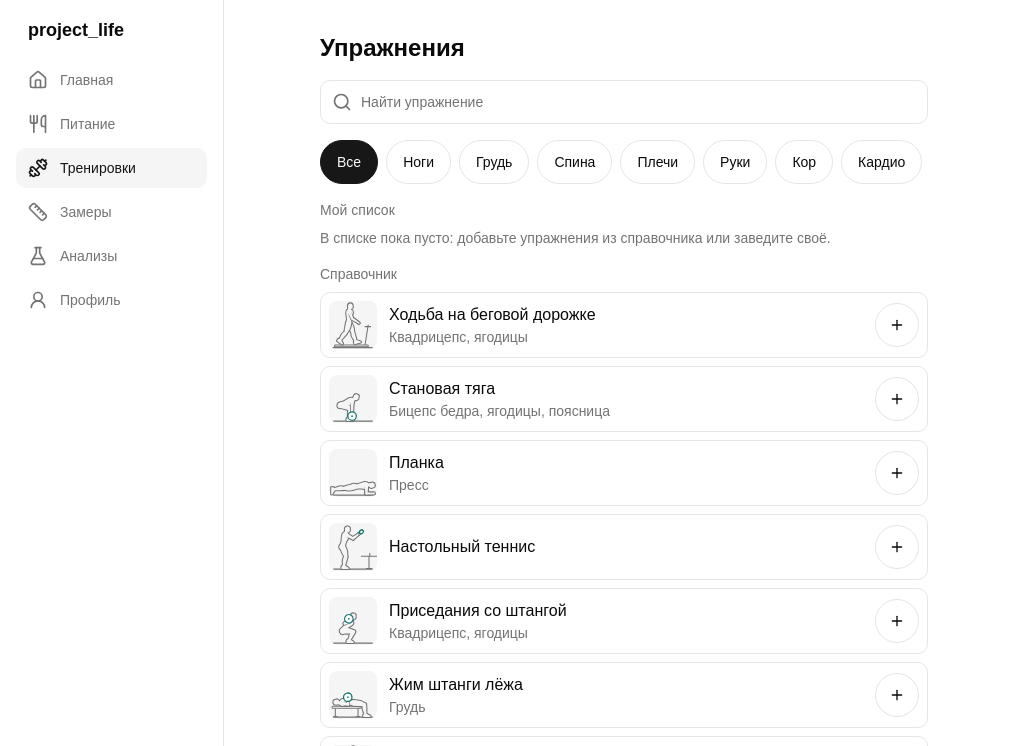
список упражнений › добавляет упражнение из справочника одним касанием и остаётся на экране
The width and height of the screenshot is (1024, 746).
Click the button named "Добавить в список: Приседания со штангой".
click(897, 621)  # box [875, 599, 919, 643]
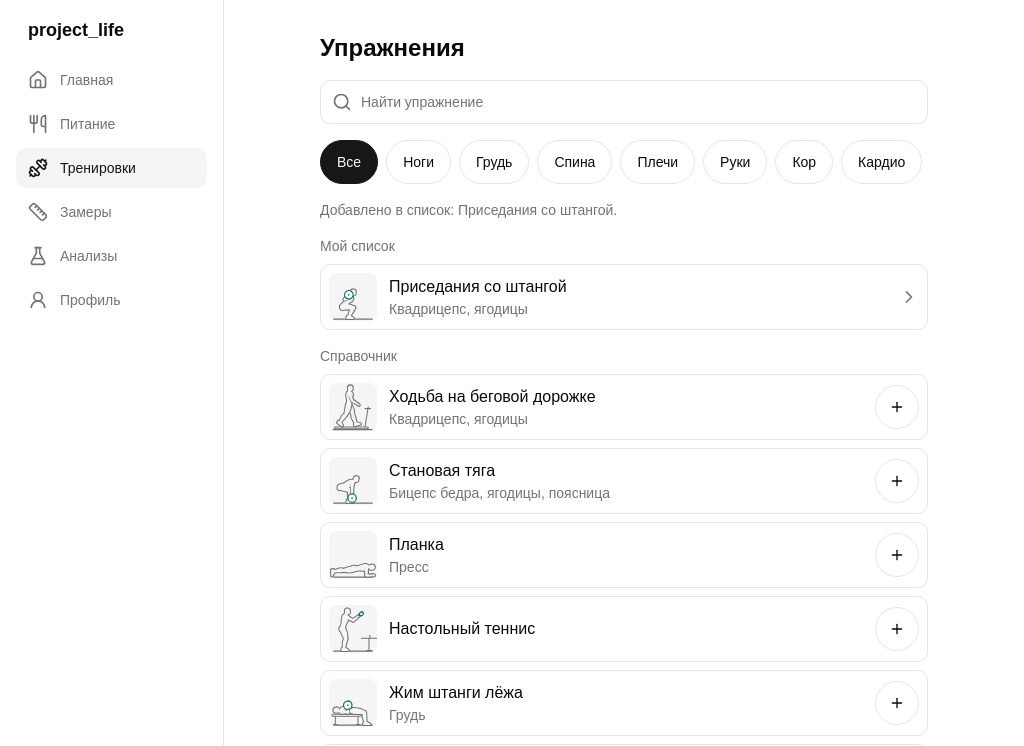
expect the message reads "Добавлено в список: Приседания со штангой.": met, box [320, 202, 617, 218]
